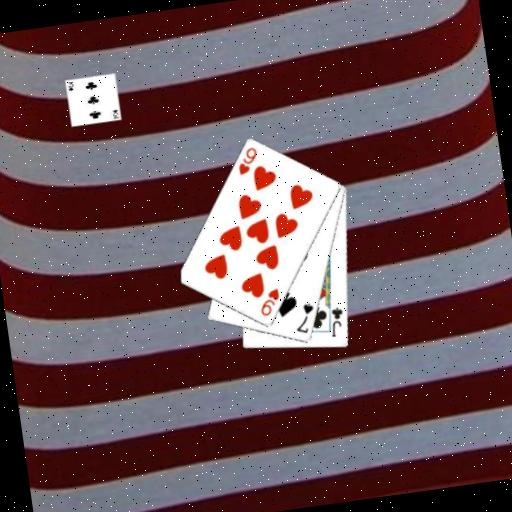7S: (290, 300, 318, 337)
9H: (255, 285, 284, 319), (233, 144, 261, 178)
JC: (325, 304, 348, 340)
